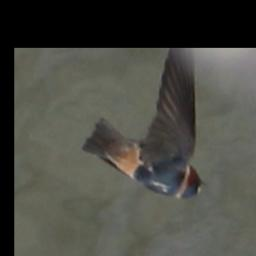Swallow: (81, 48, 206, 205)
